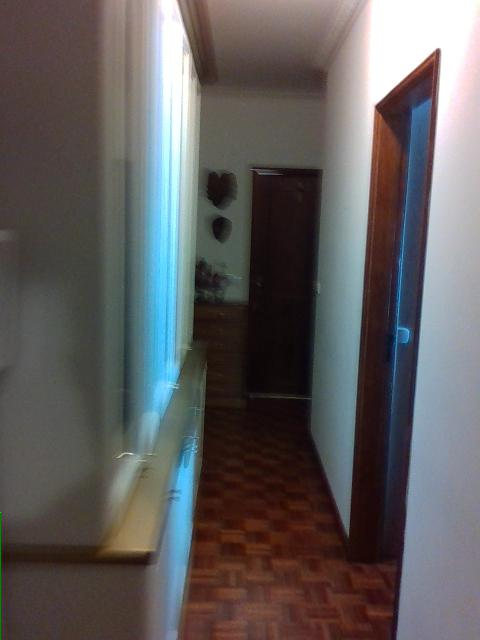door: (347, 48, 440, 640), (246, 167, 323, 399)
